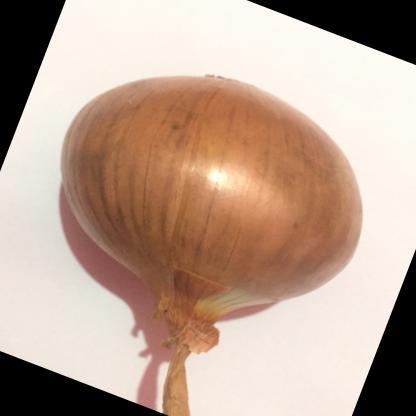onion: (19, 10, 415, 360)
